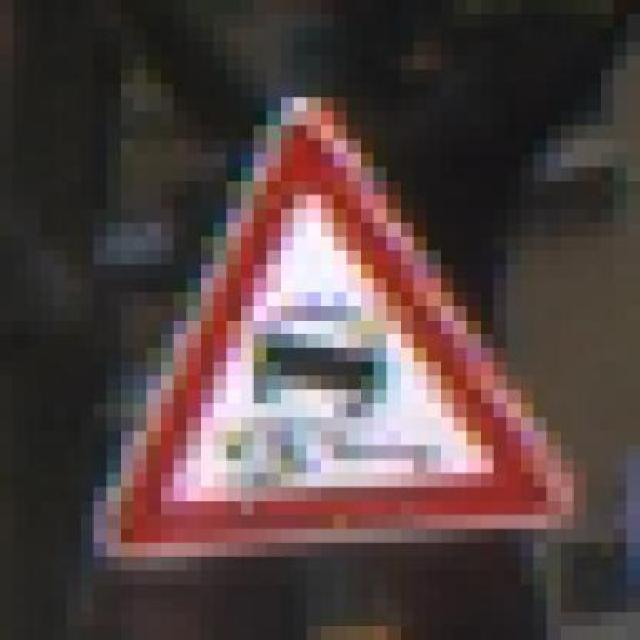Slippery Road Ahead: (79, 83, 587, 571)
